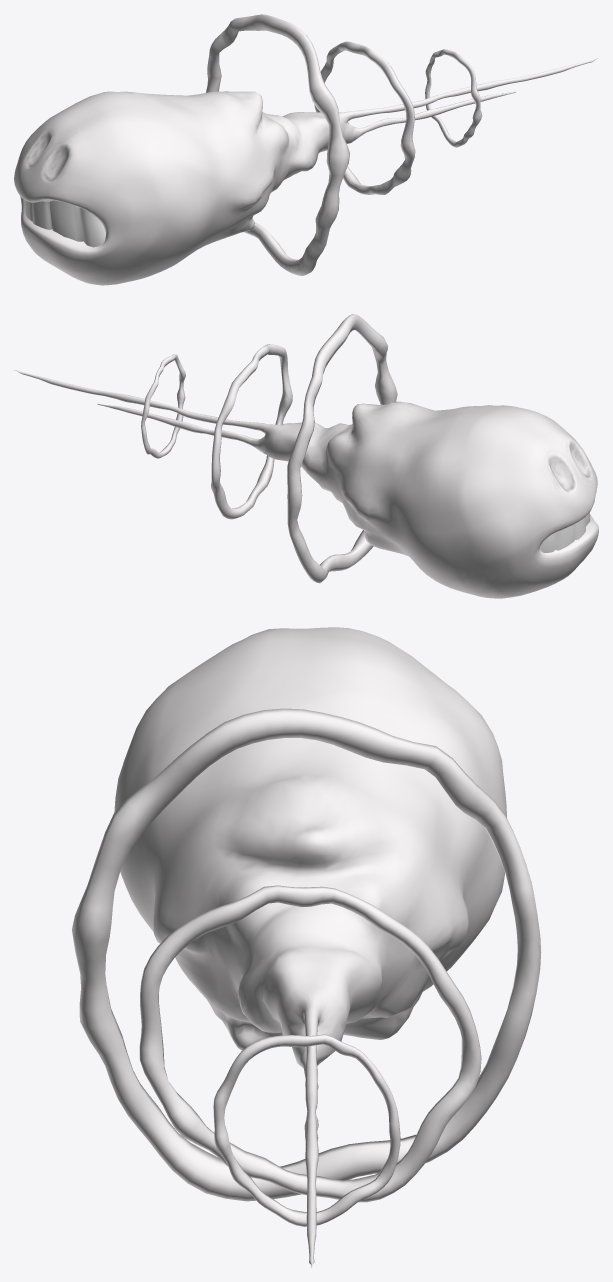
File: 普通子弹.glb
The picture shows the model from 3 angles, top to bottom: view 1: azimuth 30°, elevation 25°; view 2: azimuth 150°, elevation 25°; view 3: azimuth 270°, elevation 25°; orthographic projection. The views are drawn at different scales.
Parts seen in each view (by area): view 1: Mercury_Ball.1; view 2: Mercury_Ball.1; view 3: Mercury_Ball.1.
Part boxes in pixels (left/top/right/bottom): Mercury_Ball.1: left=14, top=14, right=598, bottom=285; Mercury_Ball.1: left=14, top=314, right=598, bottom=598; Mercury_Ball.1: left=72, top=627, right=541, bottom=1267.
Bounding box in the file's own units: 0.0976 × 0.0401 × 0.0347.
1 material, 1 textured.
